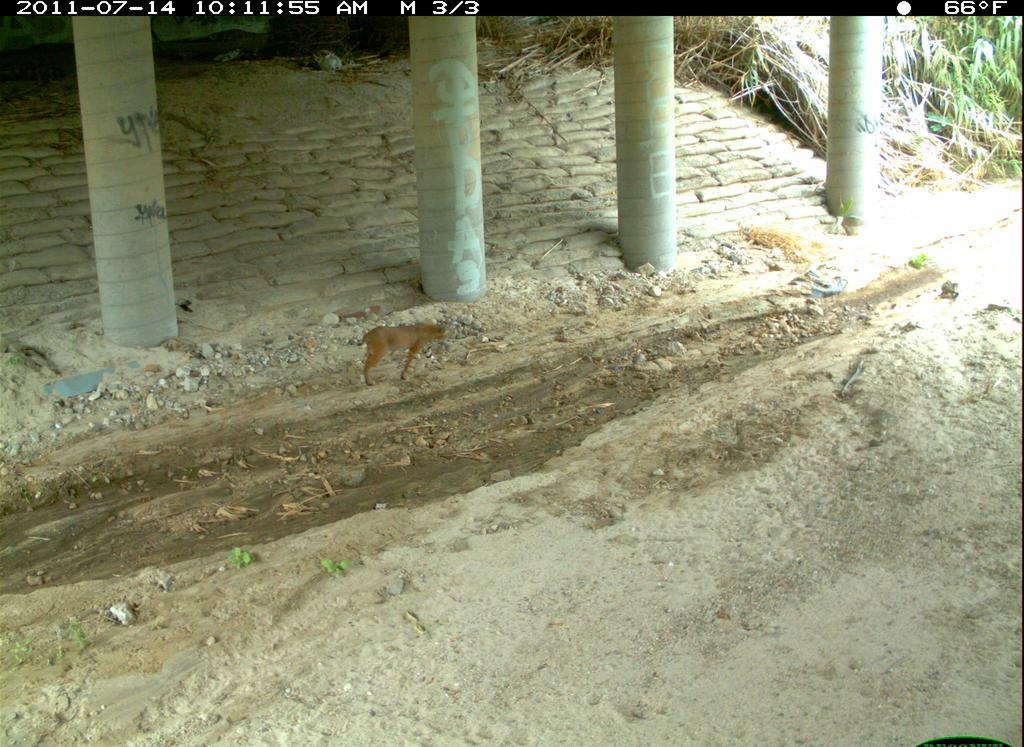bobcat: (706, 628, 913, 747)
